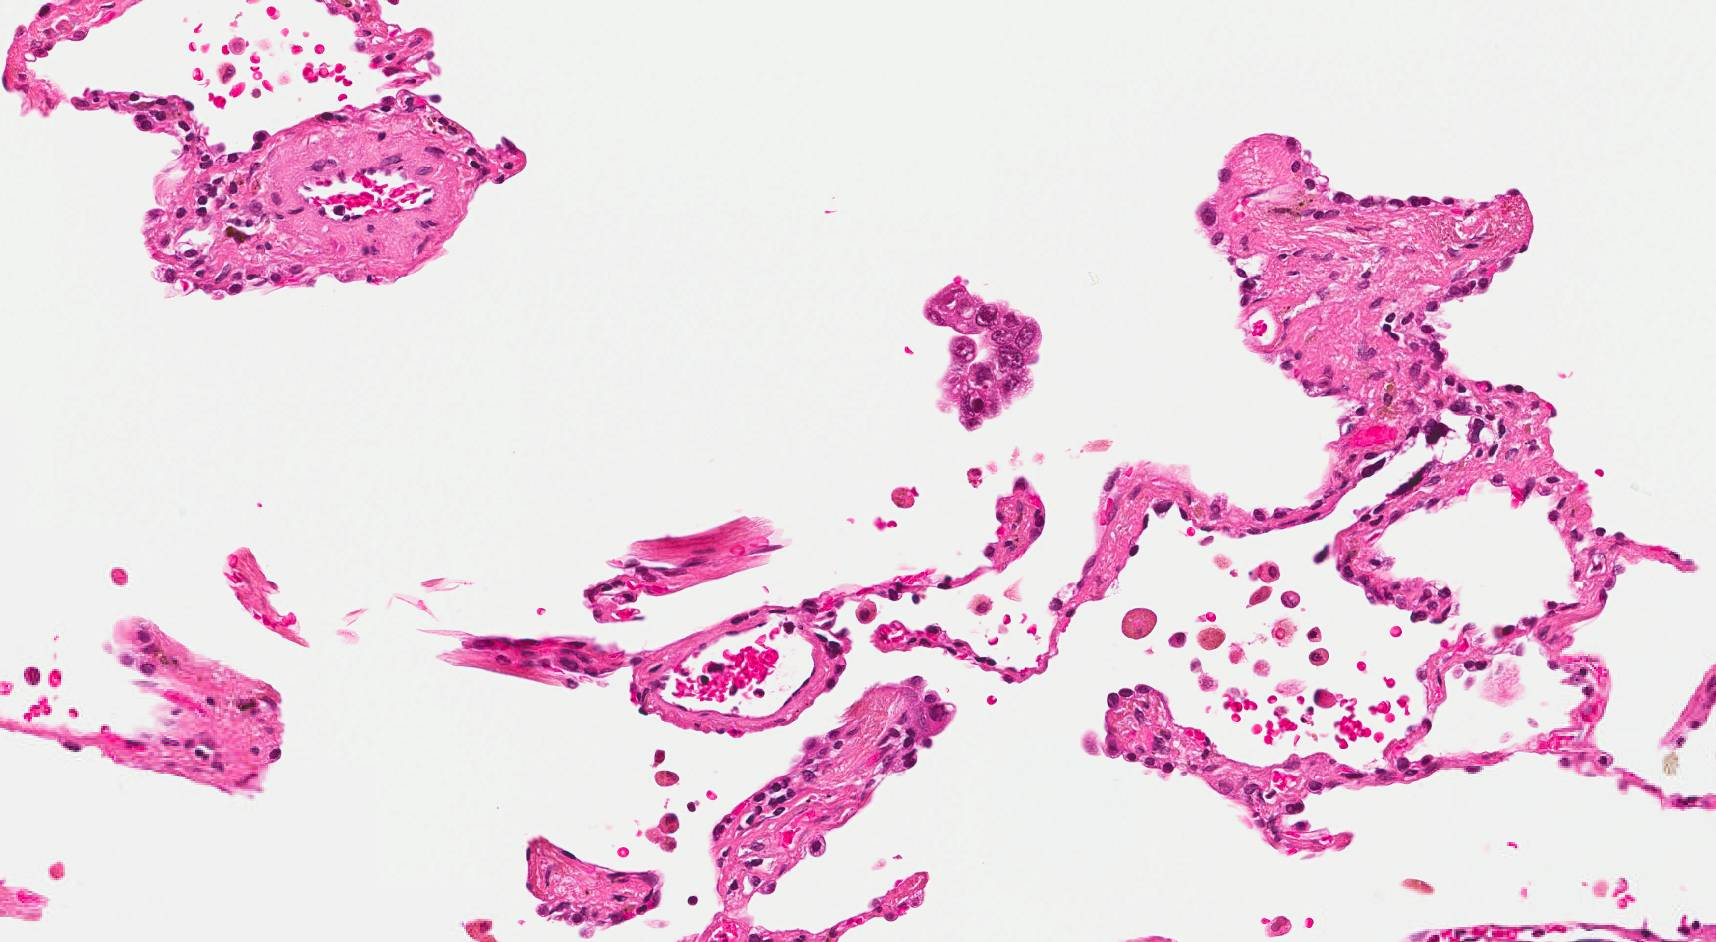stas: (923, 280, 1044, 433)
